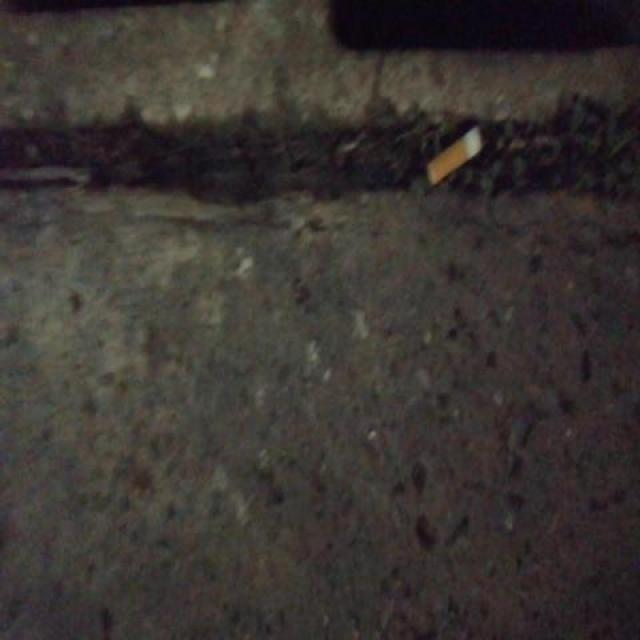non-organic waste: (421, 124, 488, 196)
